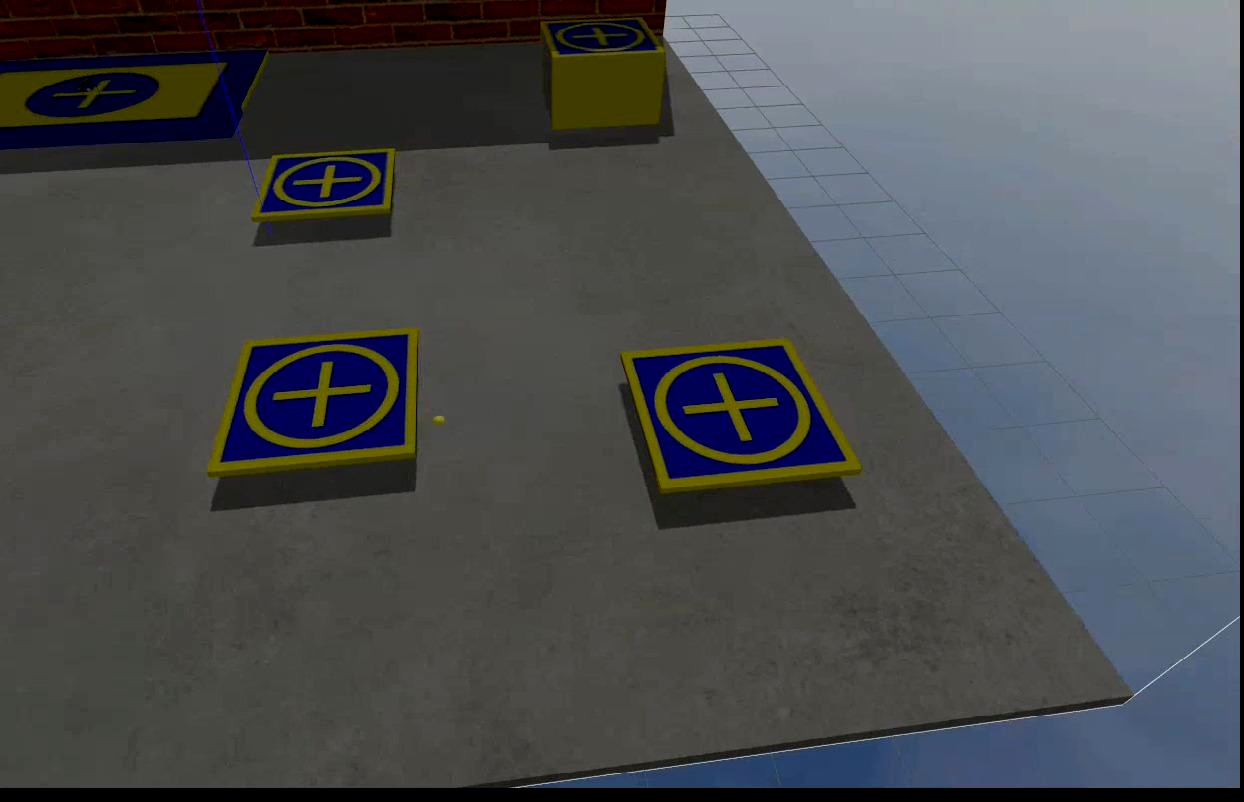large_base: (0, 47, 273, 147)
small_base: (623, 340, 864, 498), (208, 331, 425, 480), (250, 149, 398, 225), (541, 17, 667, 67)
